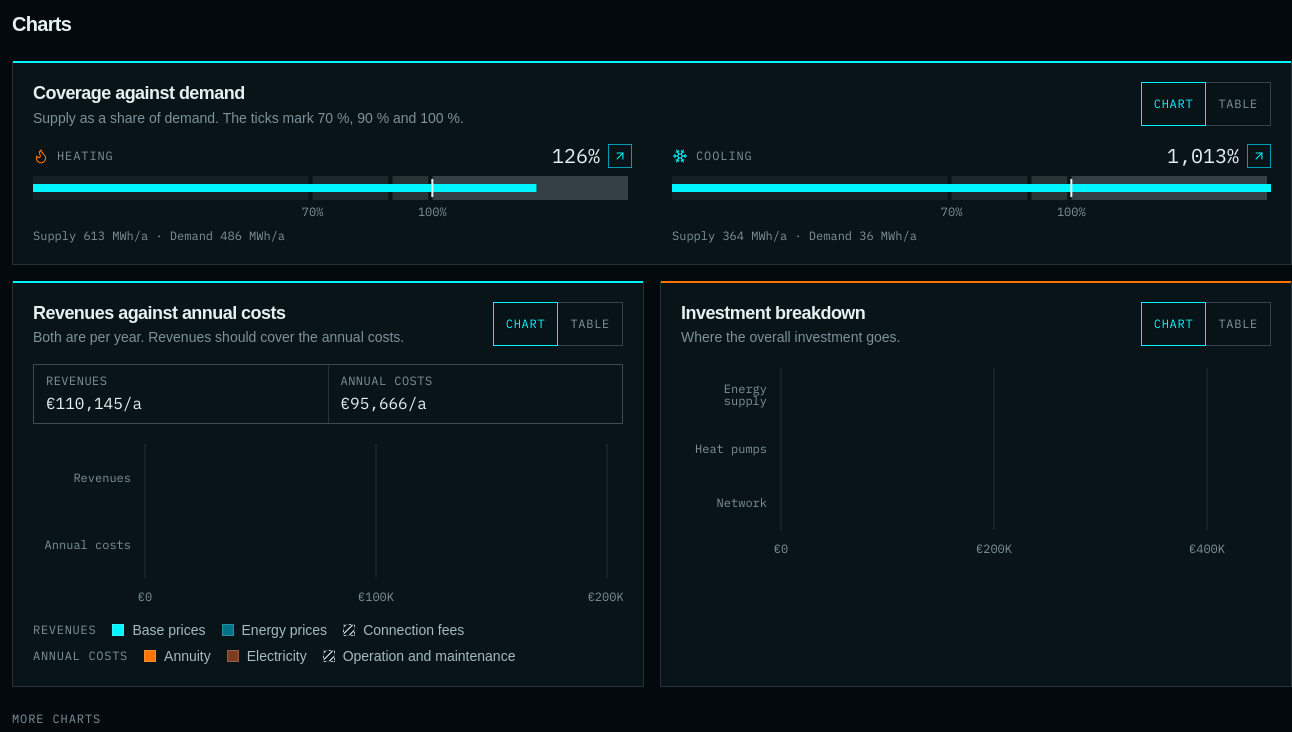
Test case: ChartsSection › gives chart-coverage a table view with the same numbers
Click the radio button labelled "Table" in the row of "Coverage against demand".
click(1238, 104)  # box [1205,82,1271,126]
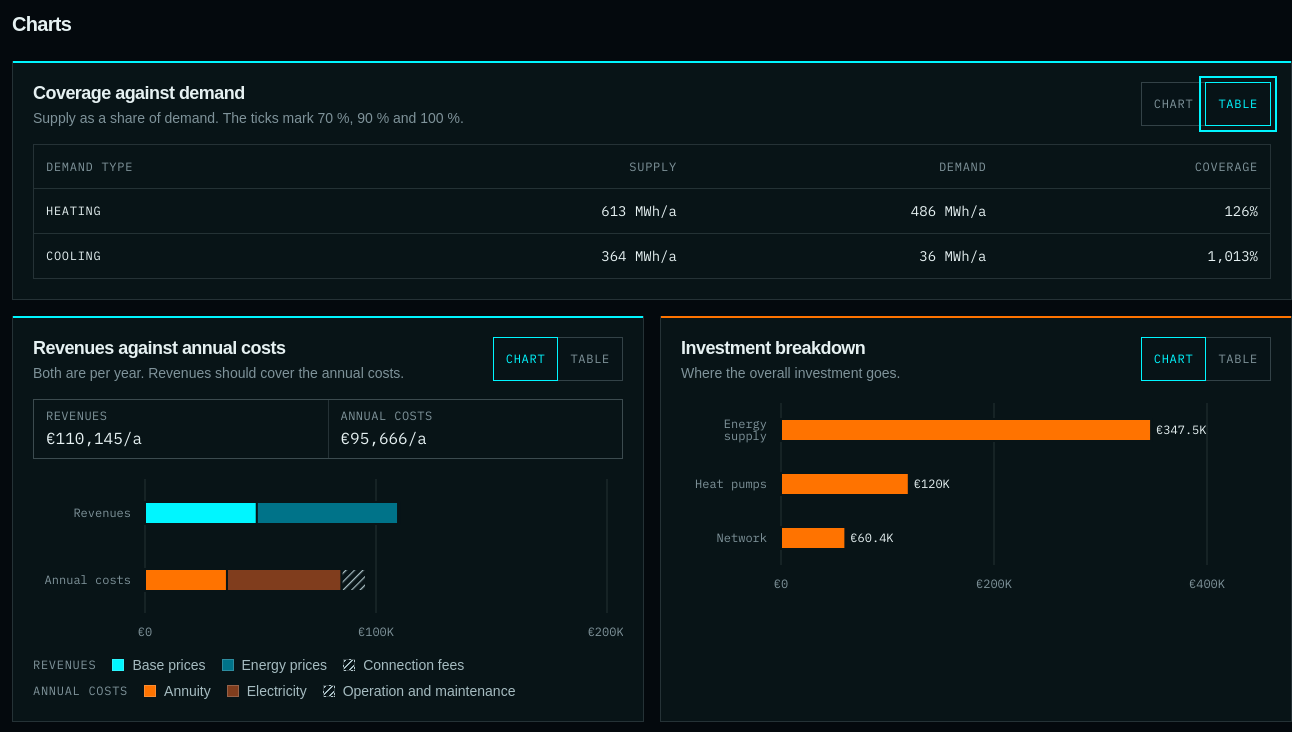
Check: the table is shown, box [34,145,1270,278]
